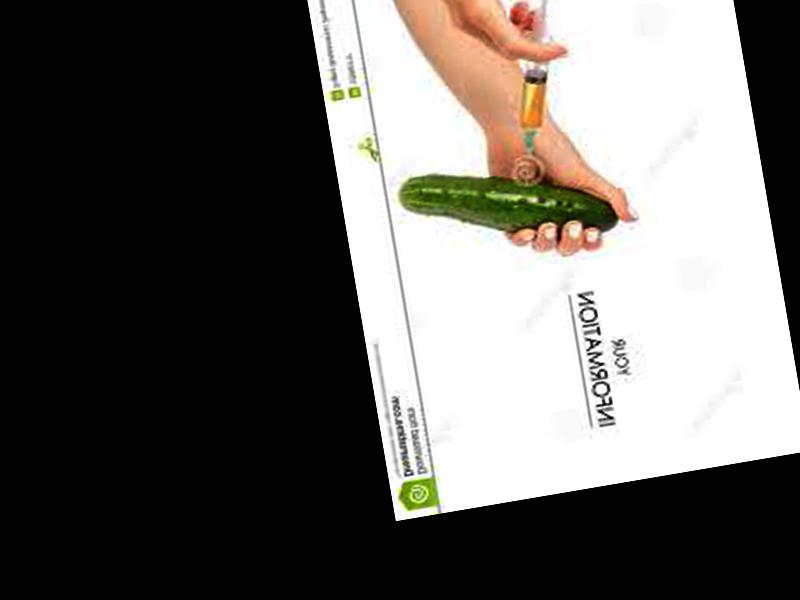Cucumber: (396, 144, 619, 264)
